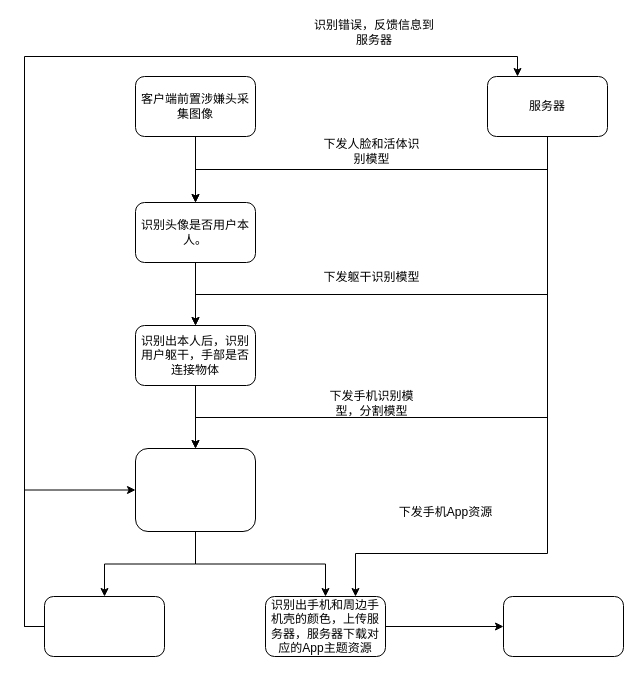
Image size: 641x674. Some labels were removed from this diagram. Each missing label, with the box of its shape:
客户端渲染使用下载到App主题资源: (502, 596, 624, 656)
对主播手上连接的物体的位置行手机识别和分割，并对询问用户是否当前正在使用手机和颜色: (134, 448, 256, 532)
截图上传到服务器，并进行优化反馈的模型训练: (44, 596, 164, 656)
